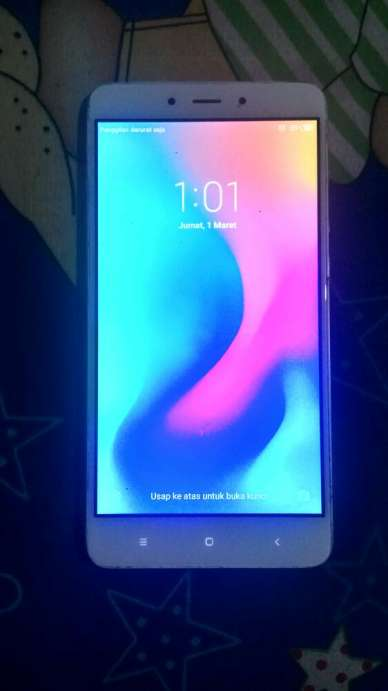Handphone: (76, 76, 338, 578)
